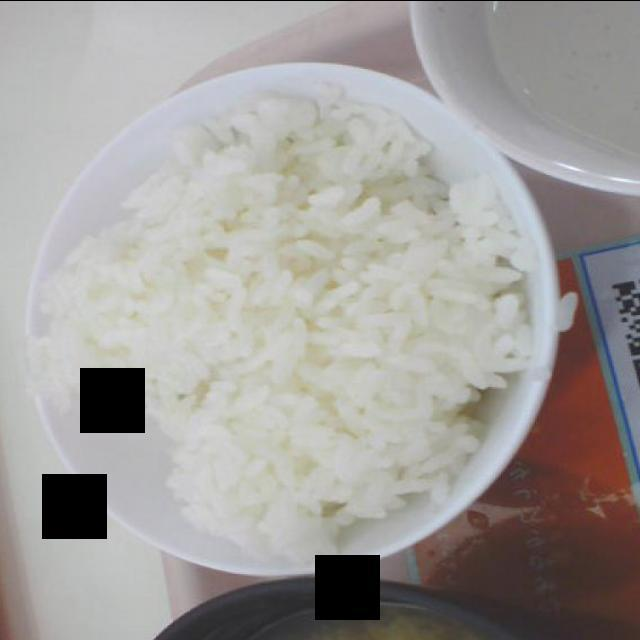rice: (37, 93, 535, 561)
